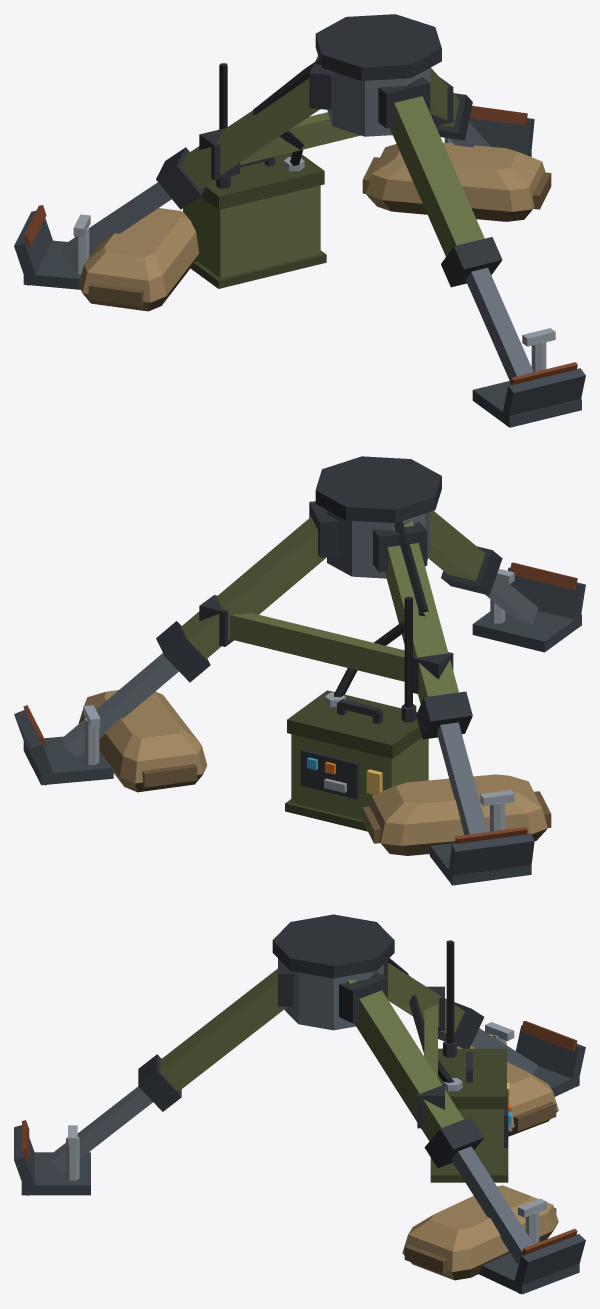
The model's file is dep_doorman_base.fbx.
3 renders of one model, top to bottom at view 1: azimuth 30°, elevation 25°; view 2: azimuth 150°, elevation 25°; view 3: azimuth 270°, elevation 25°, orthographic. The views are drawn at different scales.
Visible parts, largest first — view 1: dep_doorman_base; view 2: dep_doorman_base; view 3: dep_doorman_base.
Boxes of the visible parts, box(x1,y1,x2,y2) form: dep_doorman_base: box(14, 14, 585, 427); dep_doorman_base: box(14, 456, 585, 885); dep_doorman_base: box(14, 914, 585, 1294).
Bounding box in the file's own units: 405 × 193 × 413.
